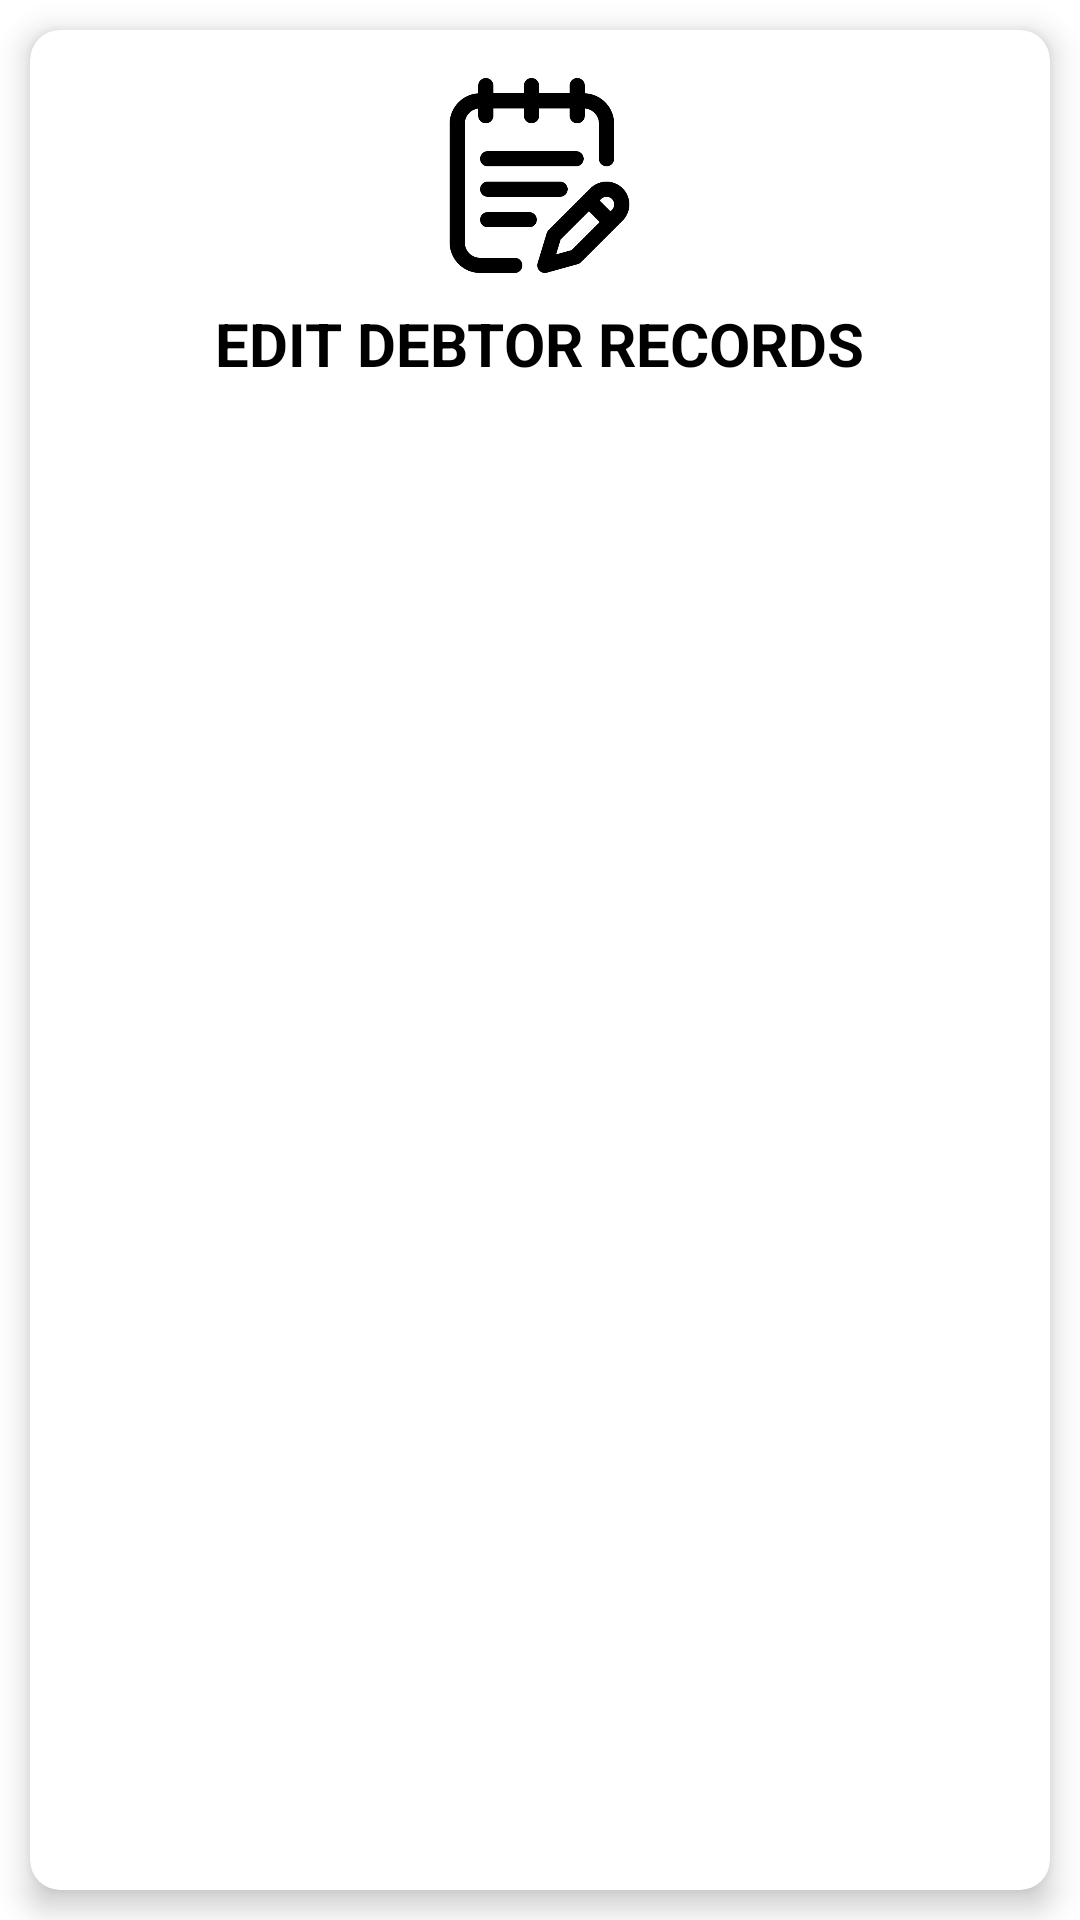

Icon click points for this 1080*1920 phone screenshot, format point (x, y):
editrec: point (539, 175)
